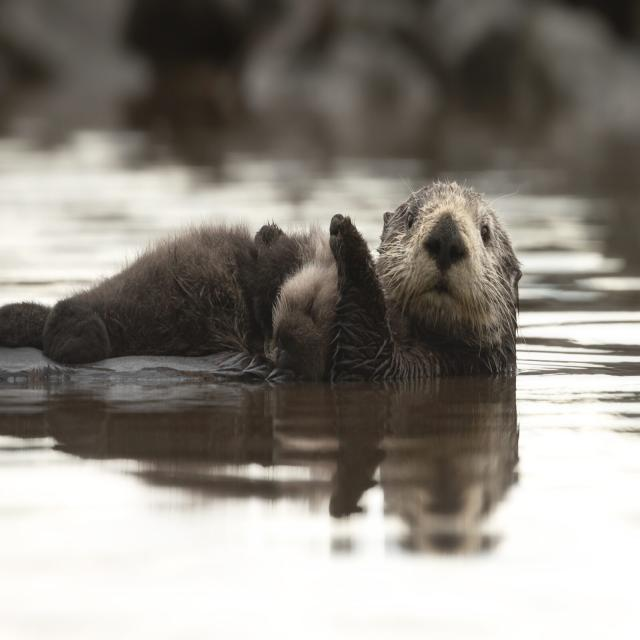Otter: (0, 176, 522, 386)
